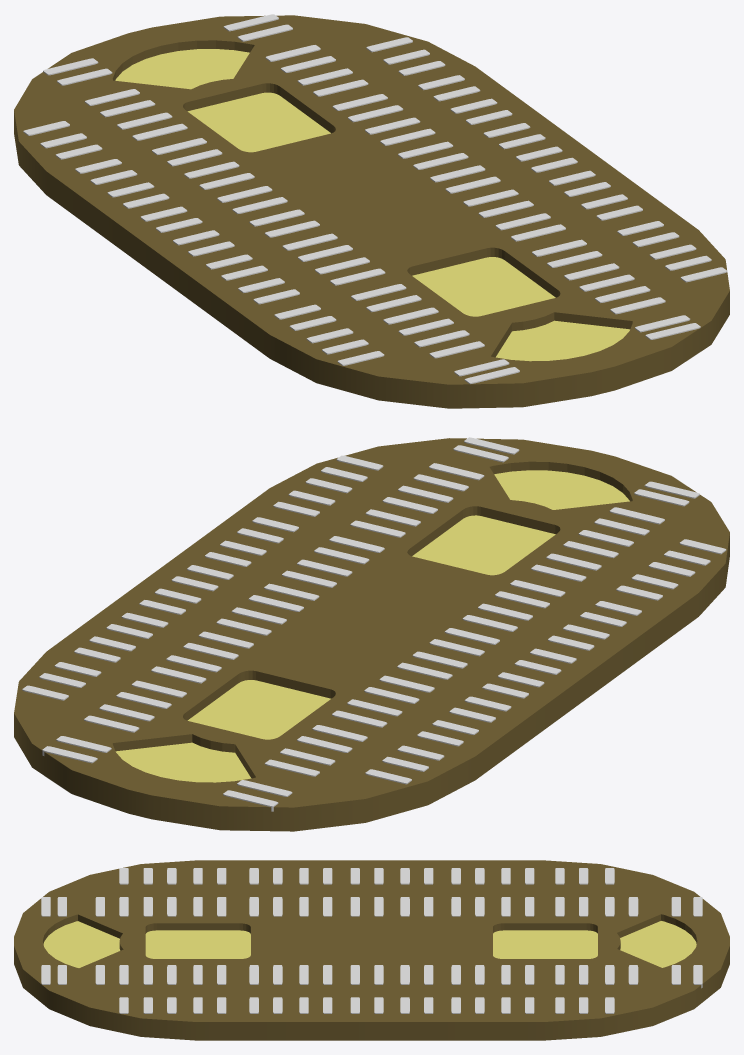
The model's file is Koban2.fbx.
3 views of the same model, one above another, from view 1: azimuth 30°, elevation 25°; view 2: azimuth 150°, elevation 25°; view 3: azimuth 270°, elevation 25° (orthographic). The views are drawn at different scales.
Visible parts, largest first — view 1: 立方体, 立方体.001; view 2: 立方体, 立方体.001; view 3: 立方体, 立方体.001.
Part boxes in pixels (x1,y1,x2,y2): 立方体: (14, 15, 729, 408); 立方体.001: (23, 14, 727, 383); 立方体: (14, 438, 729, 831); 立方体.001: (22, 437, 726, 811); 立方体: (14, 860, 729, 1040); 立方体.001: (41, 868, 702, 1013).
Size of the model in its own units: 0.2433 by 0.0136 by 0.4548.
